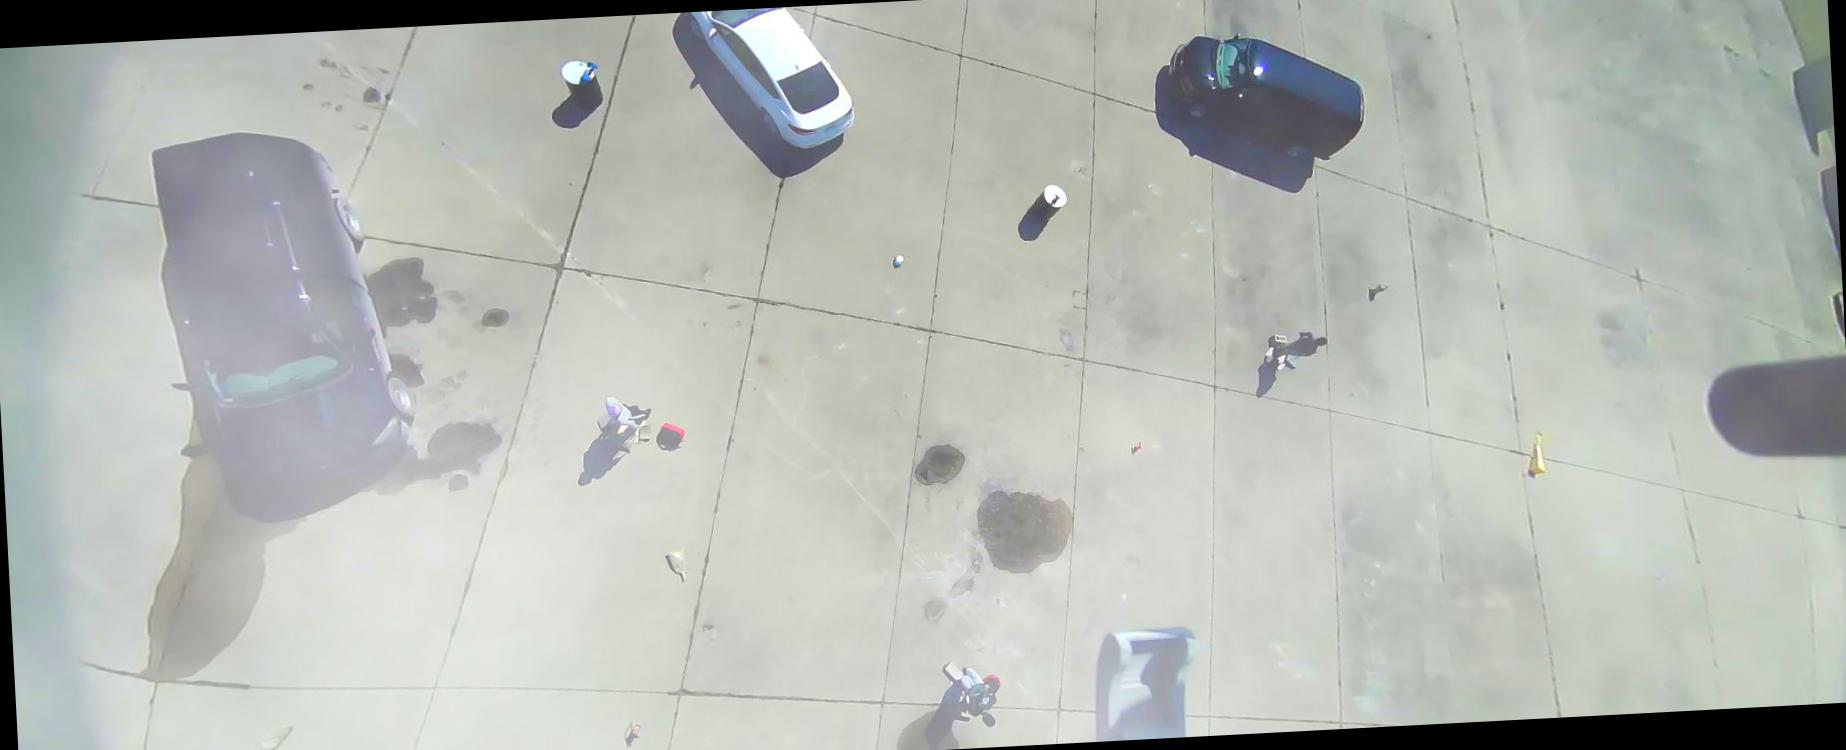vehicle: (148, 122, 421, 489), (1163, 26, 1368, 167), (686, 5, 856, 153)
